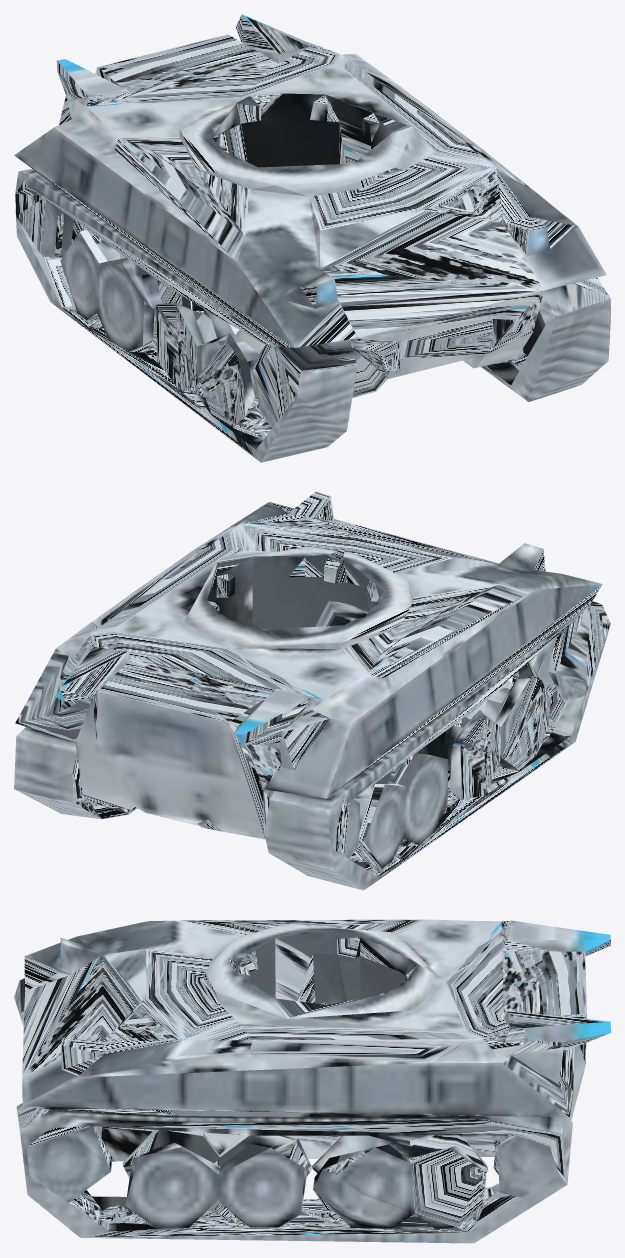
File: hull-s5.glb
3 renders of one model, top to bottom at view 1: azimuth 30°, elevation 25°; view 2: azimuth 150°, elevation 25°; view 3: azimuth 270°, elevation 25°, orthographic. The views are drawn at different scales.
Parts seen in each view (by area): view 1: 9ea61622-a94c-4b6b-8ea4-258bbf757e43_texturing.obj; view 2: 9ea61622-a94c-4b6b-8ea4-258bbf757e43_texturing.obj; view 3: 9ea61622-a94c-4b6b-8ea4-258bbf757e43_texturing.obj.
Boxes of the visible parts, box(x1,y1,x2,y2) form: 9ea61622-a94c-4b6b-8ea4-258bbf757e43_texturing.obj: box(14, 14, 610, 462); 9ea61622-a94c-4b6b-8ea4-258bbf757e43_texturing.obj: box(14, 491, 610, 890); 9ea61622-a94c-4b6b-8ea4-258bbf757e43_texturing.obj: box(14, 919, 610, 1243).
Size of the model in its own units: 1.2 by 0.7665 by 1.97.
1 material, 1 textured.
